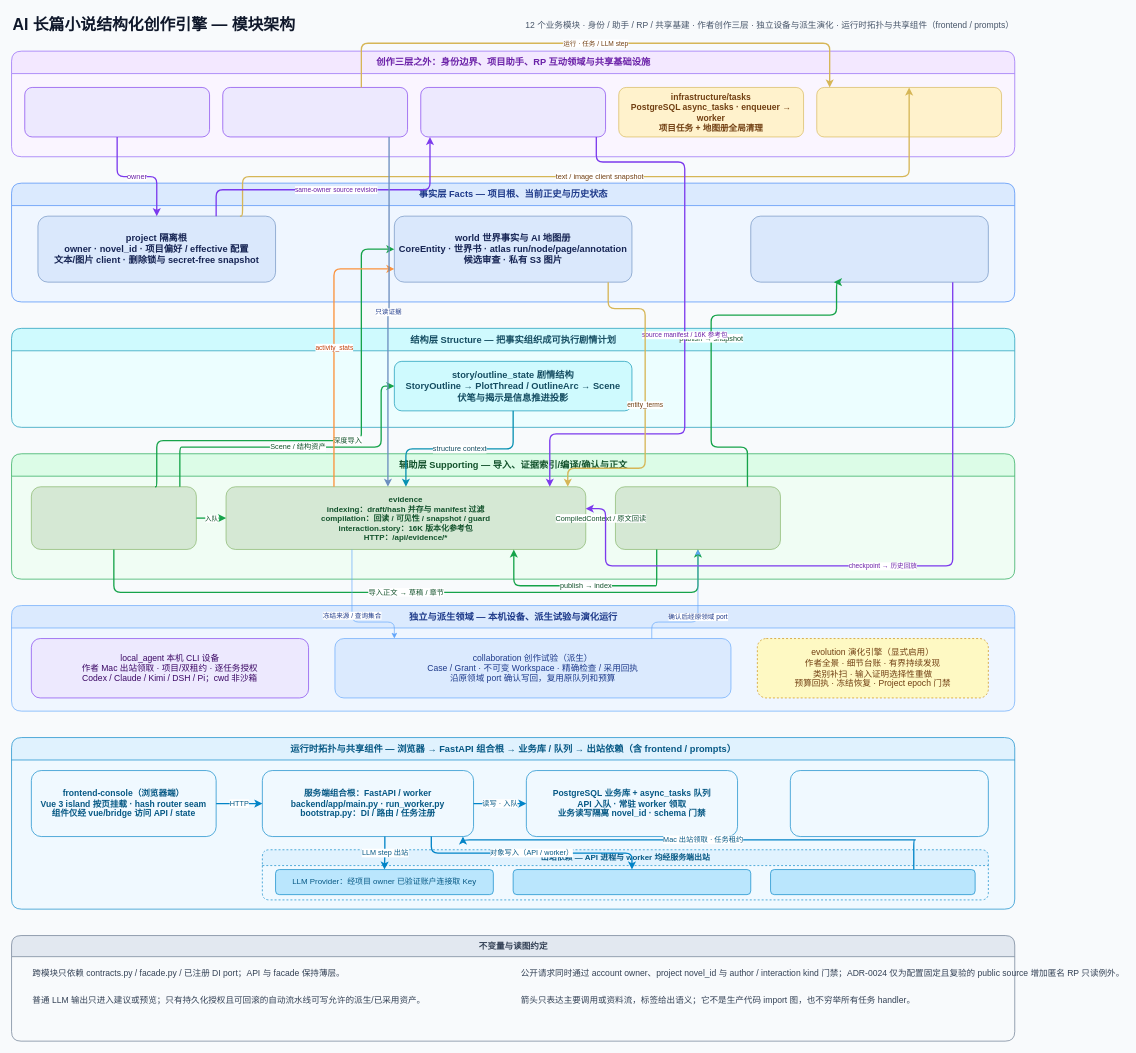
Some shapes in this 1136 by 1053 pixel diagram are drawn without their labels. The shapes that lost their labels are listed below. From the top down, each one's centre as x and y in pixels, then its label:
(x=117, y=112): account 账号 身份 · 会话 · owner 边界 账户连接 · 全局偏好
(x=315, y=112): assistant 项目助手 讨论 · 引导流程 · 成组确认 · 提醒 Evidence 只读 · 领域成果仍归原模块
(x=513, y=112): interaction RP 互动旅程 有限 Agent + 私人分支 / 回顾 / 看海 只读固定作品版本；旅程不写回原作
(x=909, y=112): infrastructure/llm 受控 step + 有限 PydanticAI 核心 项目连接 · 模型池 · 有限/范围预算
(x=869, y=248): story/continuity 历史状态 MemoryEvent · Scene checkpoint / snapshot 由已确认场景资料确定性重放
(x=113, y=517): imports 两次文件校验 · full/append 深度导入 / checkpoint / 恢复
(x=697, y=517): writing 正文工作稿 / 已发布版本 发布后触发索引与记忆更新
(x=889, y=803): prompts 运行时契约 backend/prompts 模板清单 LLM step 共享契约
(x=631, y=882): 私有 MinIO / S3 双 bucket：world 对象图片 + AI 地图册
(x=872, y=882): 作者 Mac 五种 CLI 出站租约：Codex / Claude / Kimi / DSH / Pi
